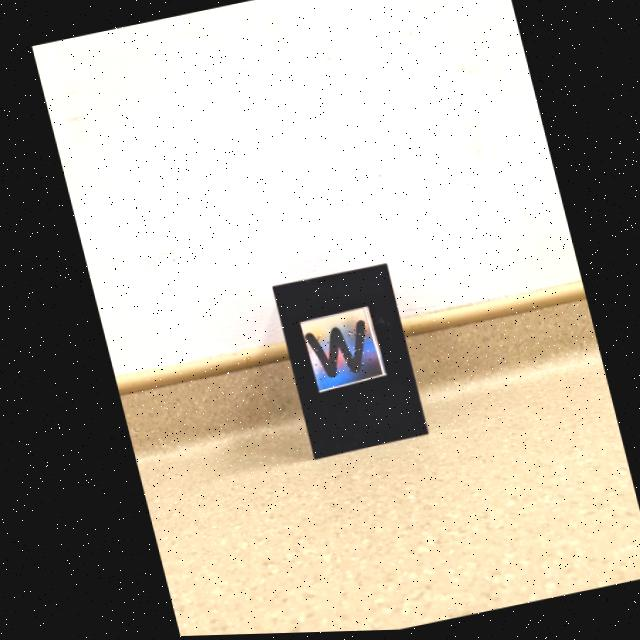W: (300, 322, 360, 379)
